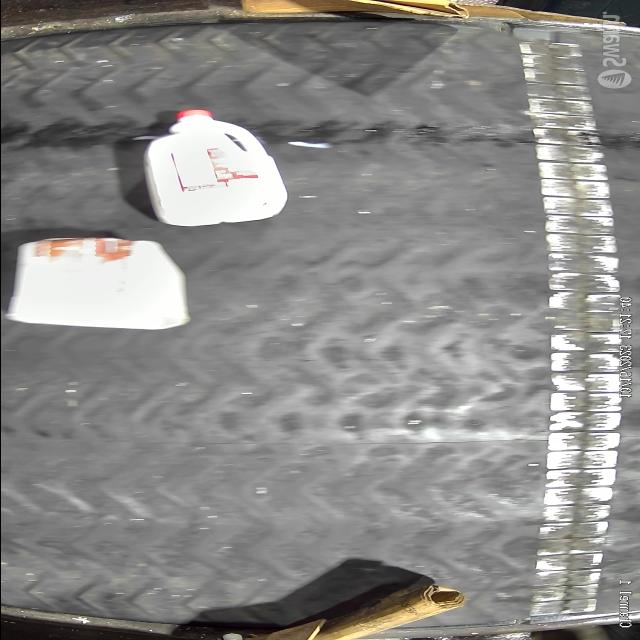milk_jug: (114, 109, 284, 224), (0, 232, 194, 330)
